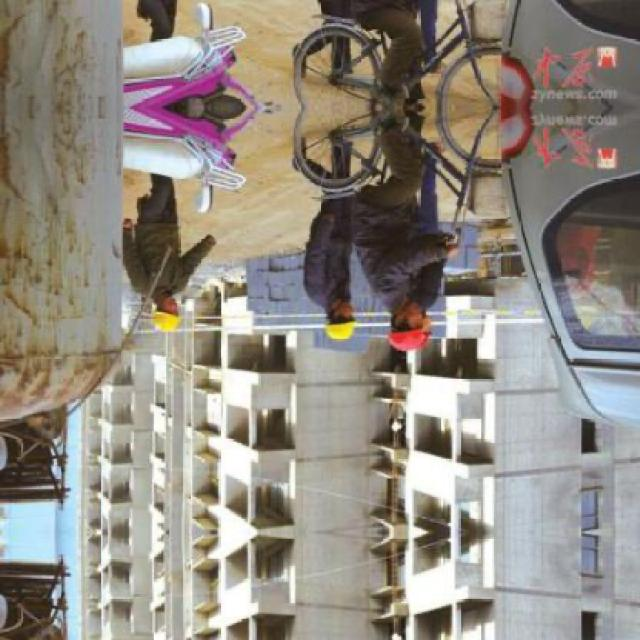con casco: (141, 272, 220, 351), (383, 302, 447, 366), (306, 297, 352, 351)
